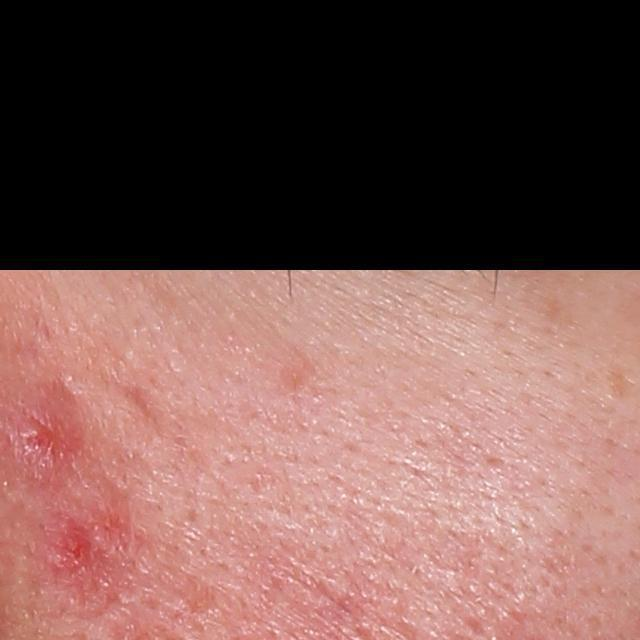melasma: (605, 364, 638, 405)
papule: (6, 404, 81, 476), (40, 516, 98, 580)
